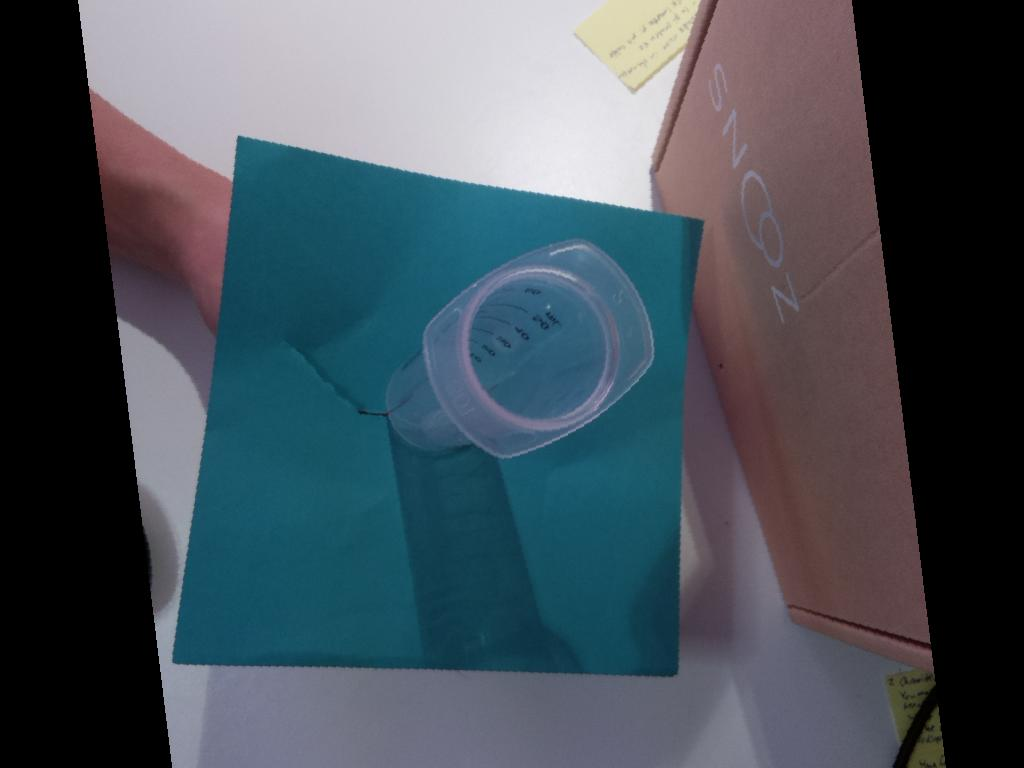clean: (422, 236, 657, 462)
